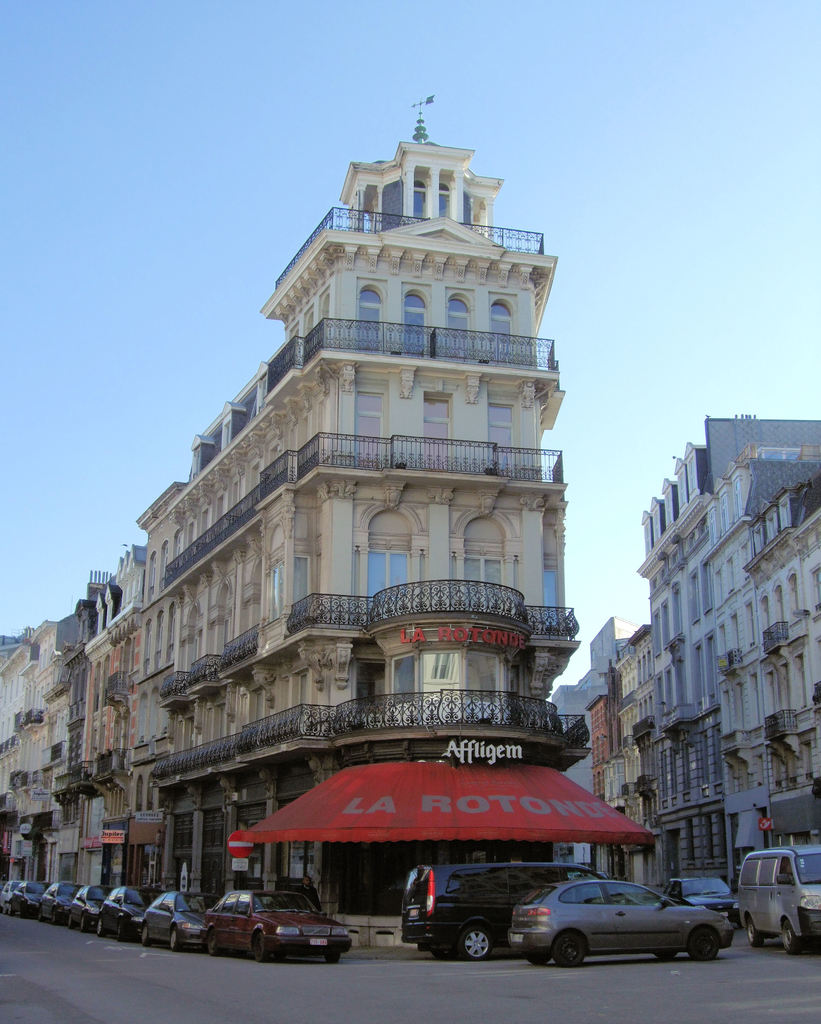Car: (400, 846, 820, 967), (0, 879, 353, 961)
